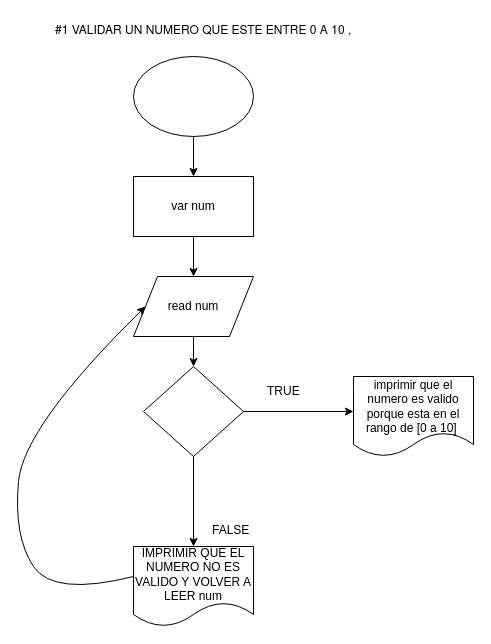
This 491x644 diagram has some shape labels left out. The box of each missing label's shape, as (x1, y1, x2, y2) in pixels:
BEGIN: (132, 56, 254, 136)
si num [0-10]: (142, 366, 244, 456)
